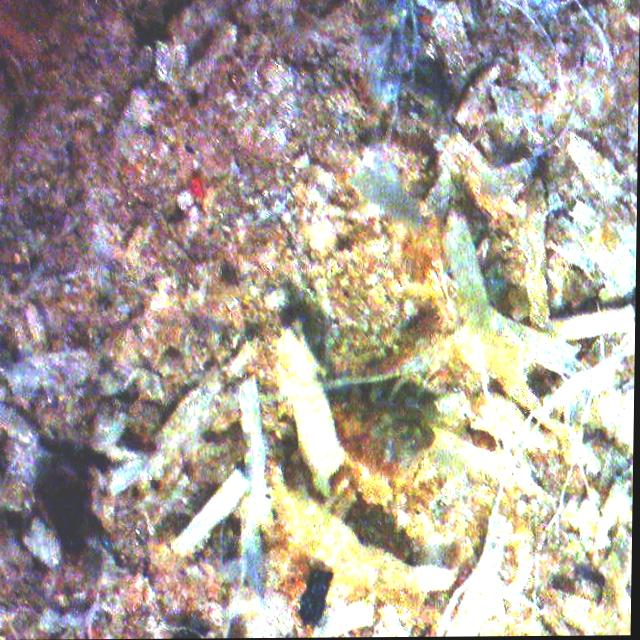microplastic: (192, 177, 205, 201)
